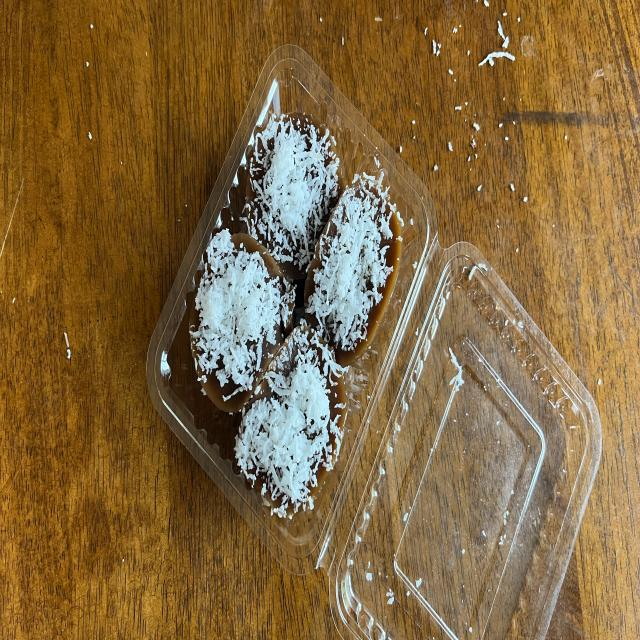Kuih lompang: (236, 322, 346, 520), (190, 229, 295, 413), (305, 169, 402, 367), (242, 116, 340, 278)
